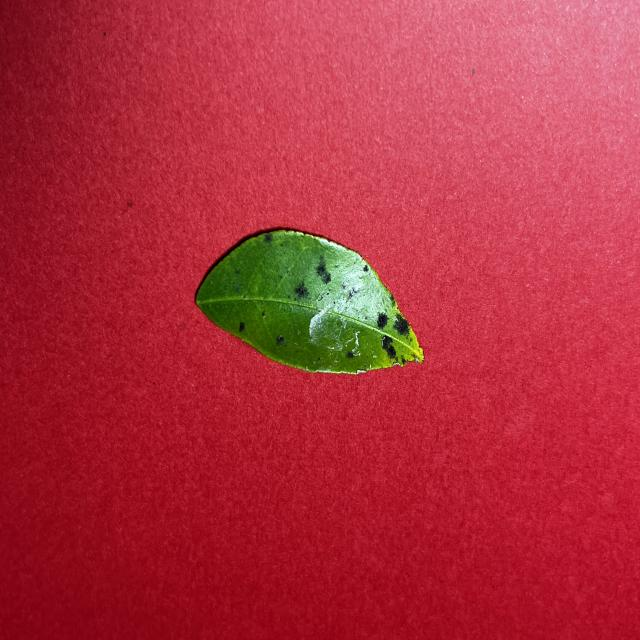sooty_mold: (196, 230, 423, 374)
